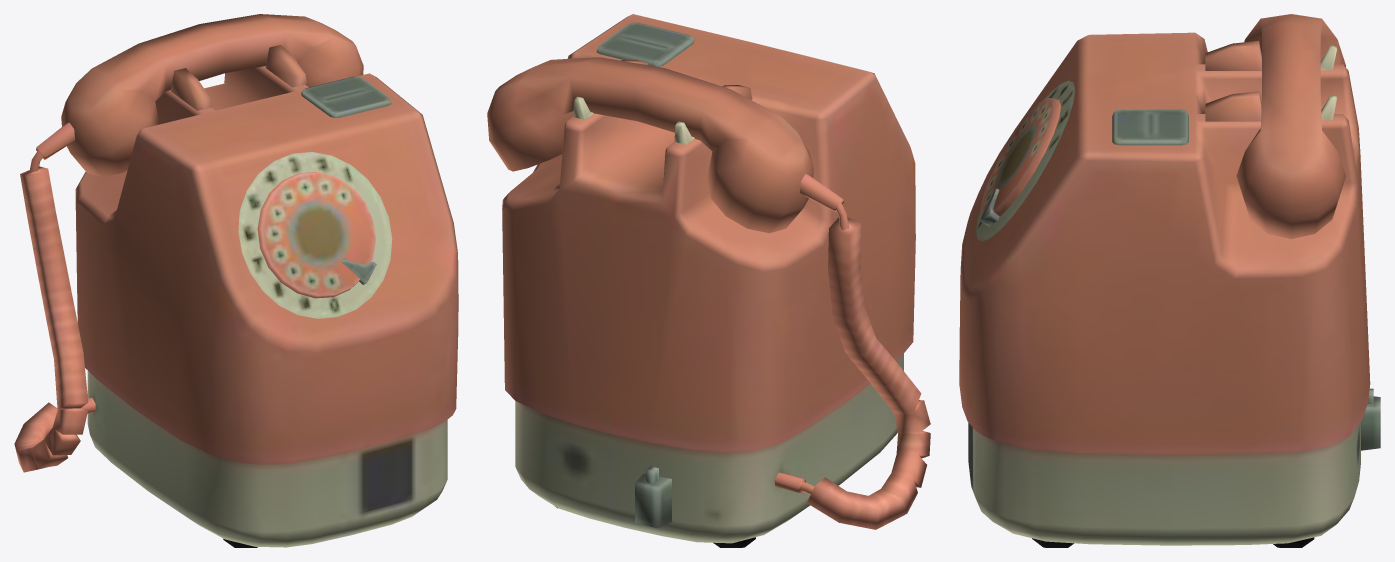
3 views of the same model, side by side, from view 1: azimuth 30°, elevation 25°; view 2: azimuth 150°, elevation 25°; view 3: azimuth 270°, elevation 25° (orthographic). The views are drawn at different scales.
Bounding box in the file's own units: 6.83 × 7.51 × 6.39.
Materials: 1 (1 with a texture image).
